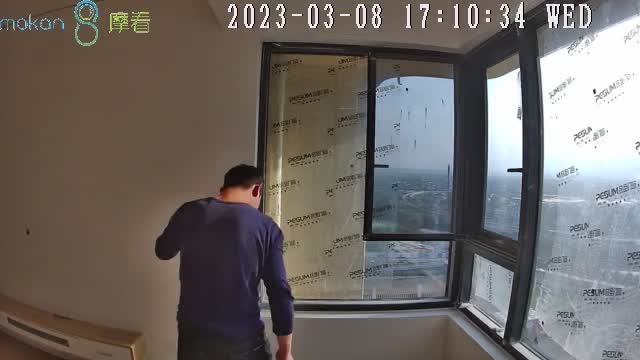people: (155, 163, 294, 360)
window: (265, 6, 640, 360)
